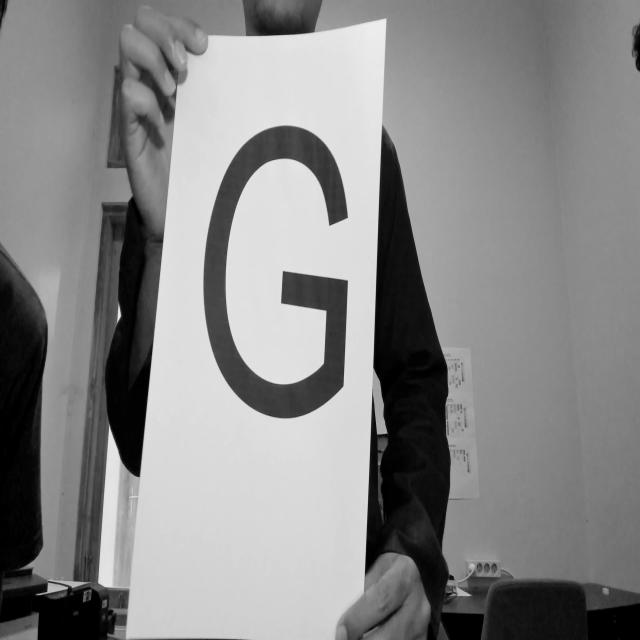g: (193, 119, 357, 464)
